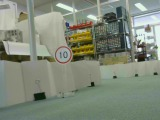speed_10: (53, 45, 72, 64)
